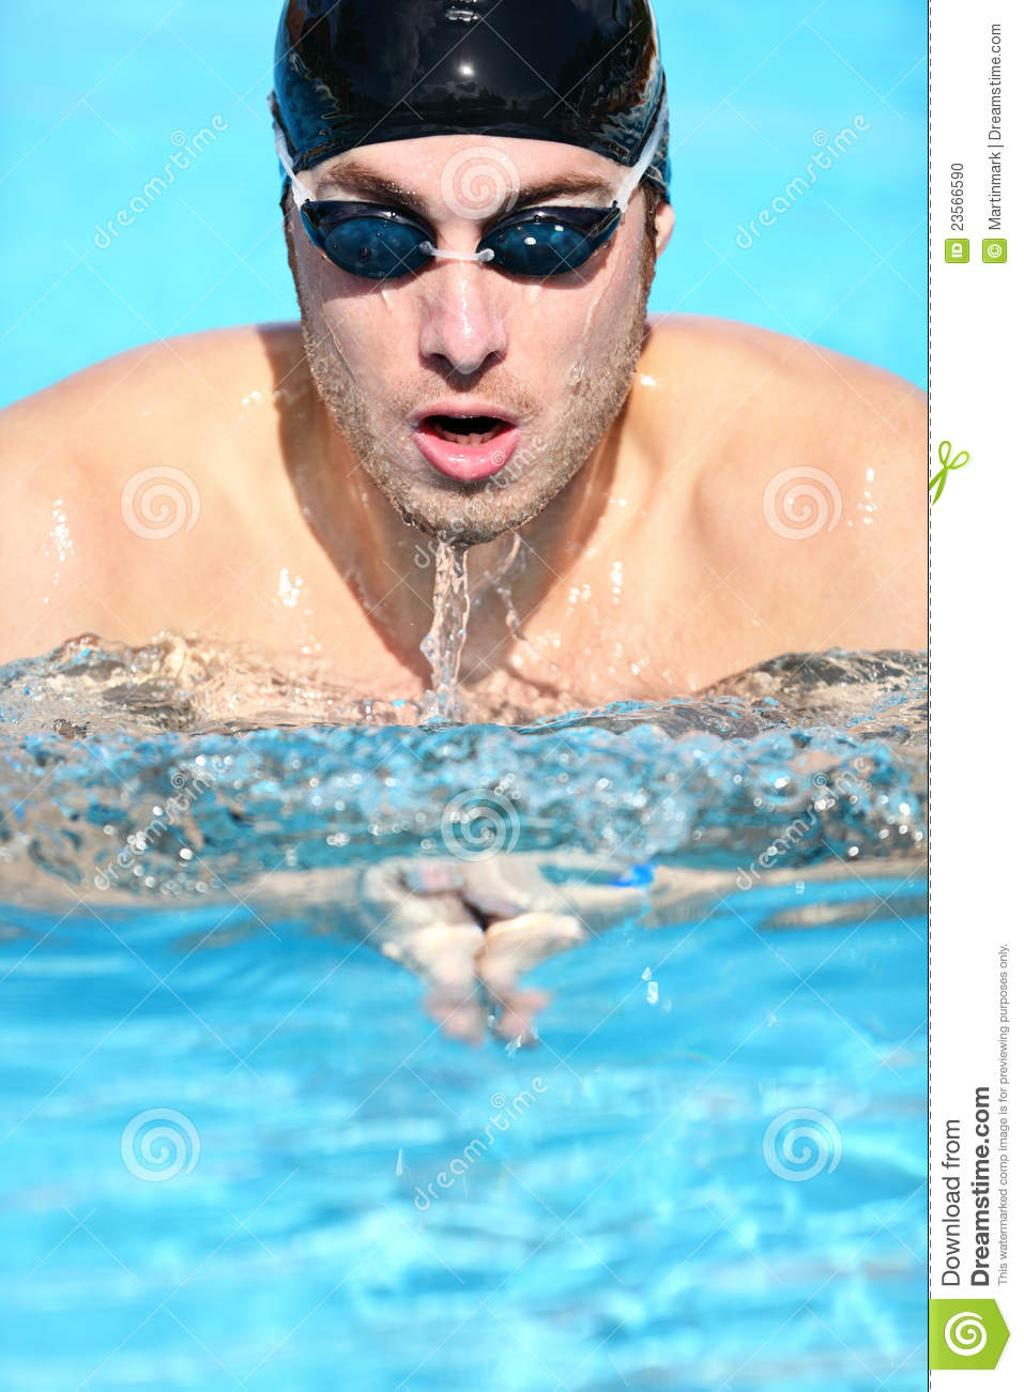face: (285, 71, 649, 546)
